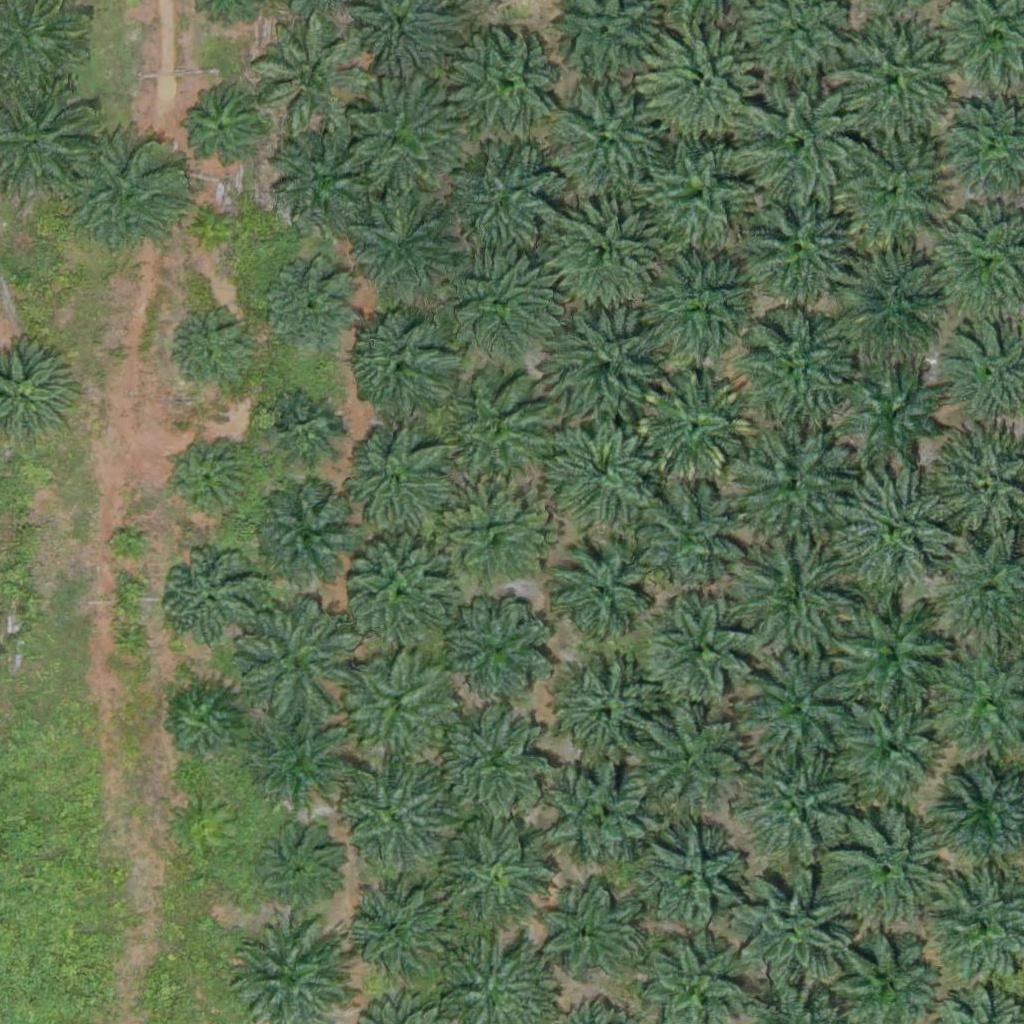Kelapa_Sawit: (448, 26, 573, 152), (654, 26, 779, 152), (825, 467, 950, 593), (829, 237, 954, 363), (825, 130, 950, 256), (832, 22, 957, 148), (737, 80, 862, 206), (733, 183, 858, 309), (733, 302, 858, 428), (731, 422, 856, 548), (721, 537, 846, 663), (342, 72, 467, 198), (231, 596, 356, 722), (737, 645, 862, 771), (735, 739, 860, 865), (730, 874, 855, 1000), (827, 584, 952, 710), (831, 683, 956, 809), (827, 804, 952, 930), (67, 129, 192, 254), (645, 138, 758, 252), (645, 246, 758, 360), (254, 19, 367, 132), (440, 372, 553, 485), (434, 478, 547, 591), (346, 539, 459, 652), (336, 423, 449, 536), (346, 307, 459, 420), (351, 189, 464, 302), (444, 589, 557, 702), (552, 659, 665, 772), (439, 704, 552, 817), (439, 817, 552, 930), (537, 755, 650, 868), (548, 198, 660, 312), (552, 87, 664, 201), (631, 706, 743, 820), (639, 368, 751, 481), (638, 484, 750, 597), (545, 537, 657, 650), (545, 413, 657, 526), (552, 311, 664, 424), (444, 145, 556, 258), (443, 246, 555, 359), (271, 128, 383, 241), (646, 593, 758, 706), (344, 655, 456, 768), (245, 706, 357, 819), (340, 762, 452, 875), (633, 819, 745, 932), (264, 257, 364, 358), (256, 488, 356, 589), (348, 883, 448, 984), (536, 883, 636, 984), (843, 361, 943, 461), (160, 551, 260, 651), (169, 309, 257, 397), (167, 437, 255, 525), (179, 85, 267, 173), (257, 820, 344, 908), (166, 685, 241, 761), (268, 392, 343, 467), (202, 208, 240, 246), (110, 528, 147, 566)
